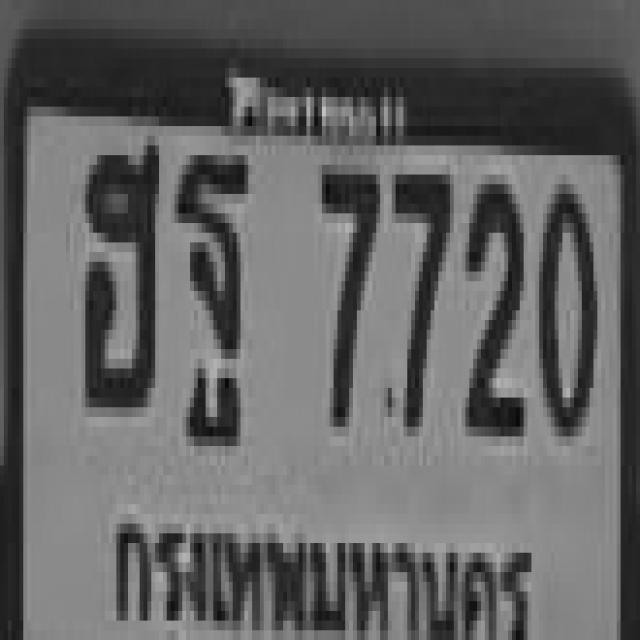0: (536, 175, 594, 426)
2: (462, 175, 520, 426)
25ThorThan: (171, 146, 244, 408)
53HorNokHook: (82, 131, 155, 402)
7: (318, 155, 376, 417), (392, 165, 446, 427)
Bangkok: (102, 507, 536, 640)
